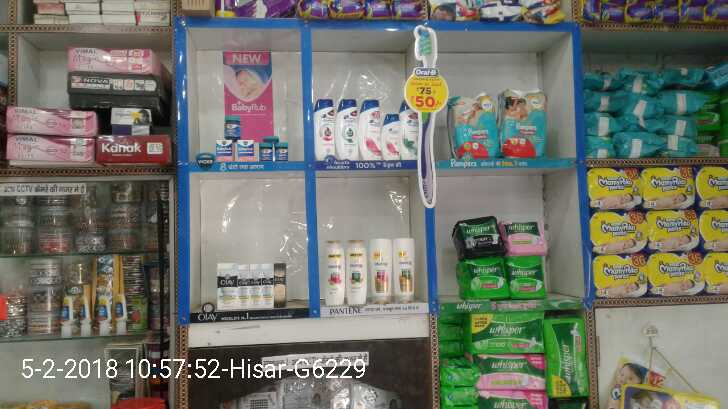beauty: (390, 238, 430, 301), (239, 262, 286, 306), (356, 97, 385, 160), (332, 103, 363, 157), (367, 238, 391, 306), (312, 92, 334, 158), (325, 237, 344, 309), (401, 90, 419, 157), (347, 236, 365, 300), (382, 111, 405, 160), (216, 264, 237, 317)
pharmacy: (549, 317, 595, 394), (451, 92, 498, 165), (497, 88, 542, 162), (471, 311, 542, 350), (475, 347, 546, 386), (505, 257, 552, 302), (461, 253, 506, 294), (474, 385, 544, 409), (505, 209, 547, 247), (456, 216, 502, 250), (208, 136, 235, 155), (276, 140, 293, 168), (257, 139, 274, 166), (239, 136, 258, 159)
